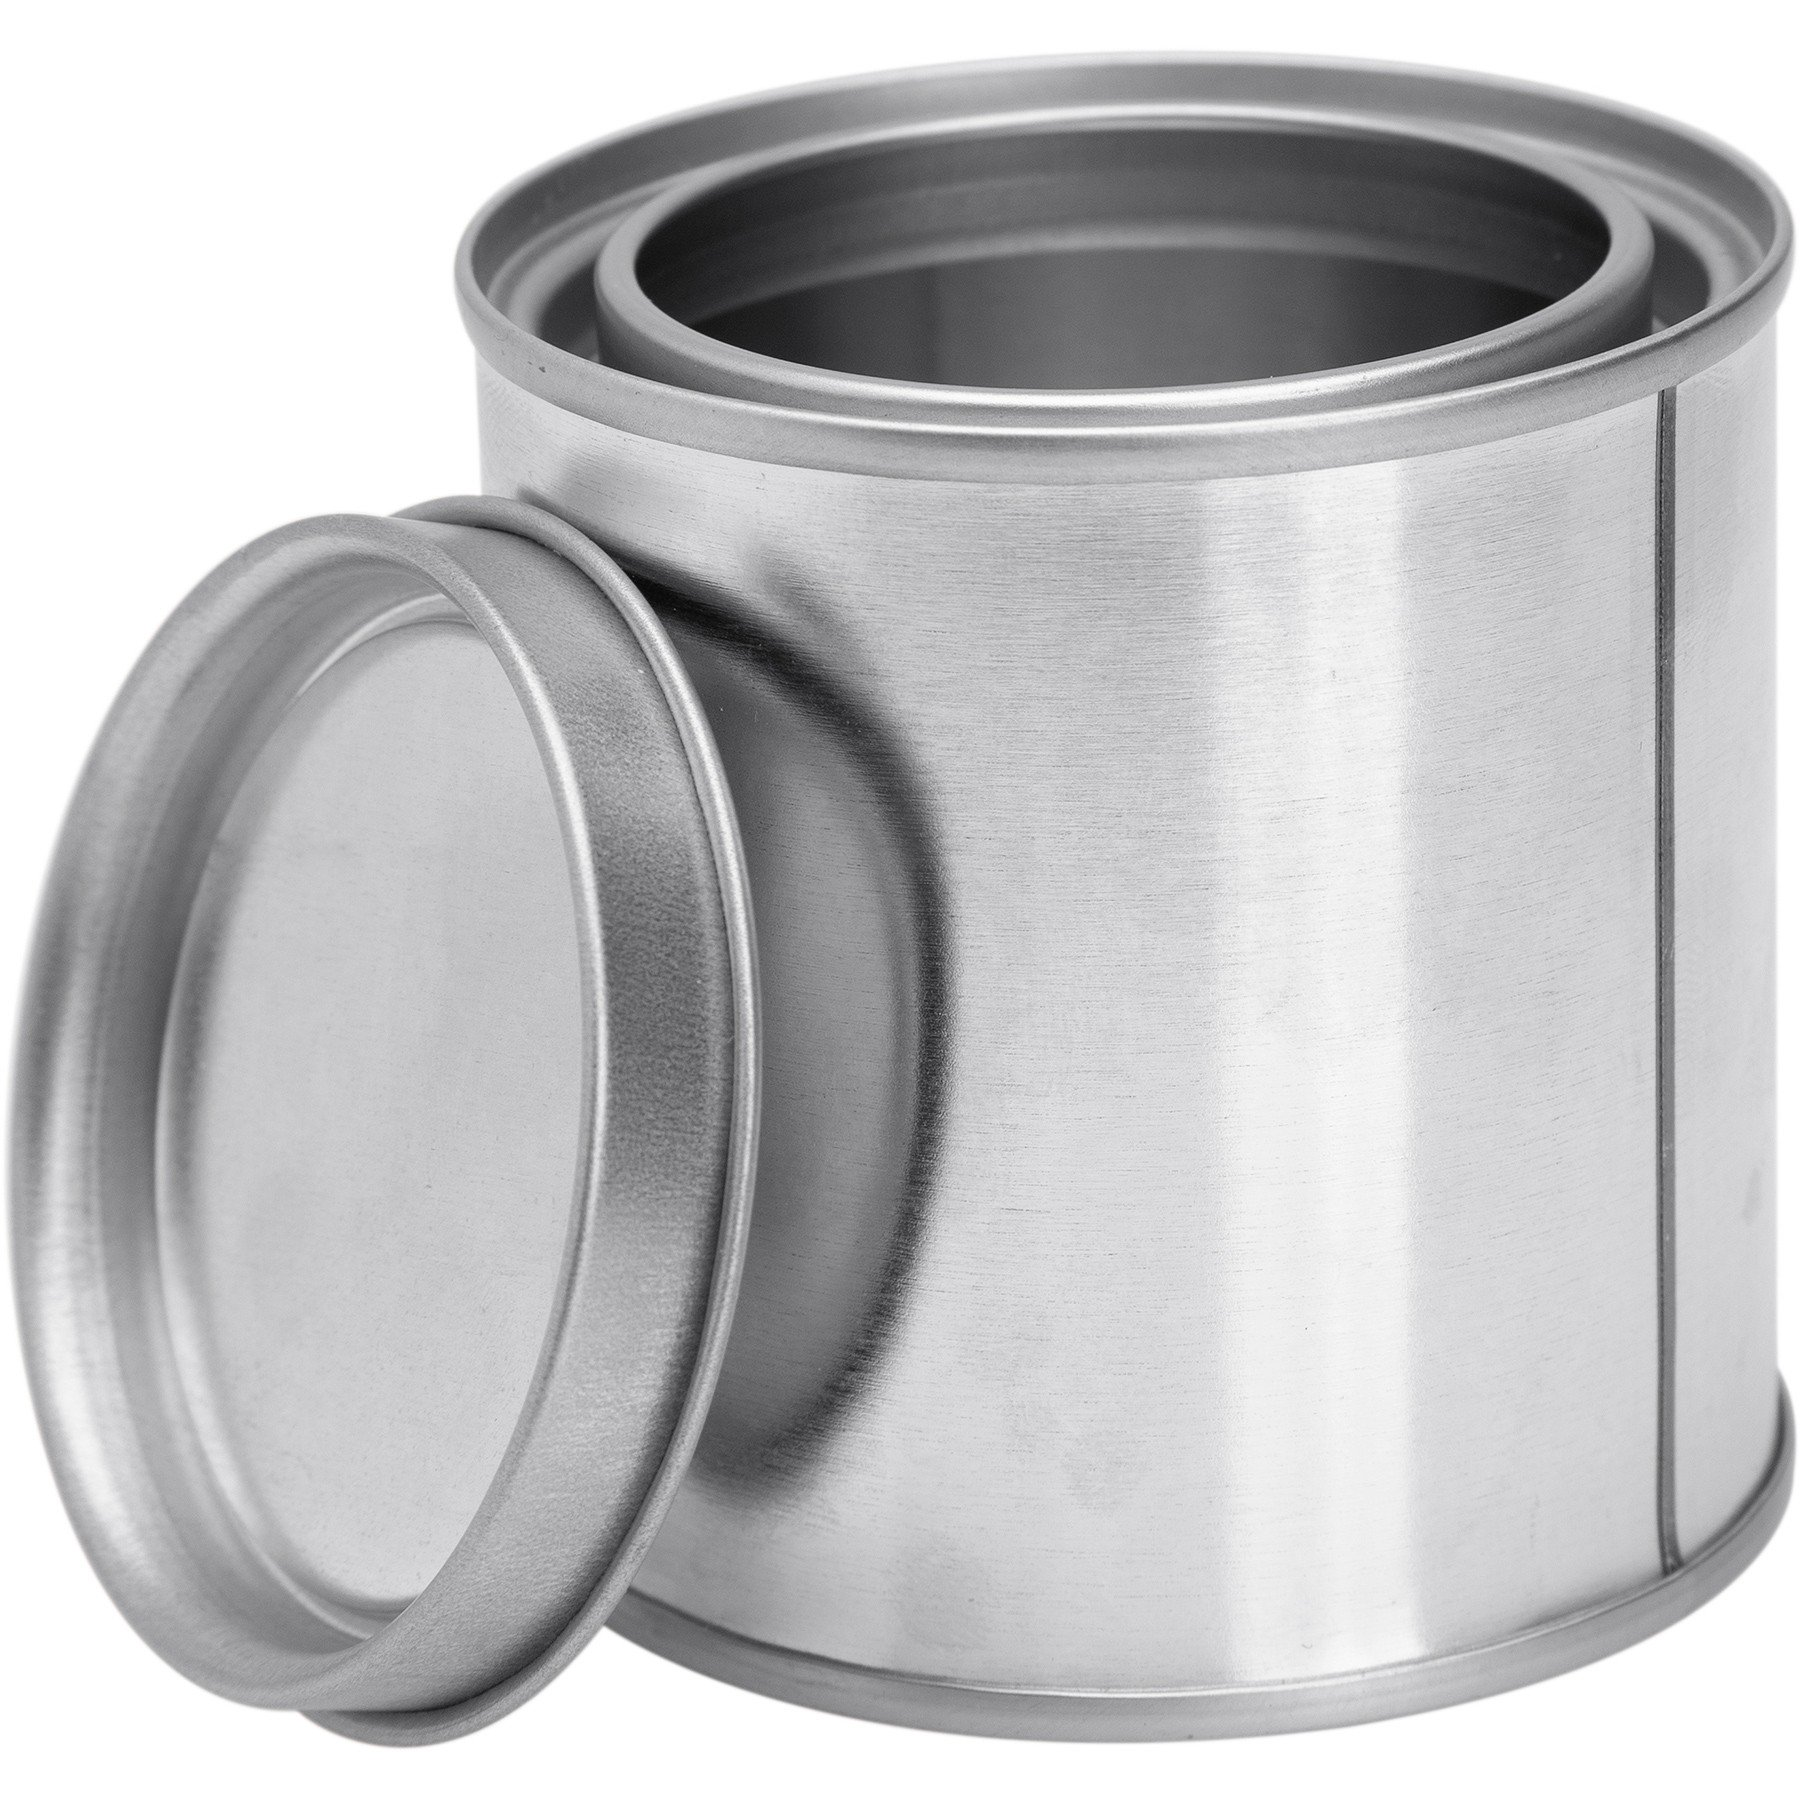metal: (452, 51, 1800, 1747), (2, 490, 766, 1747)
